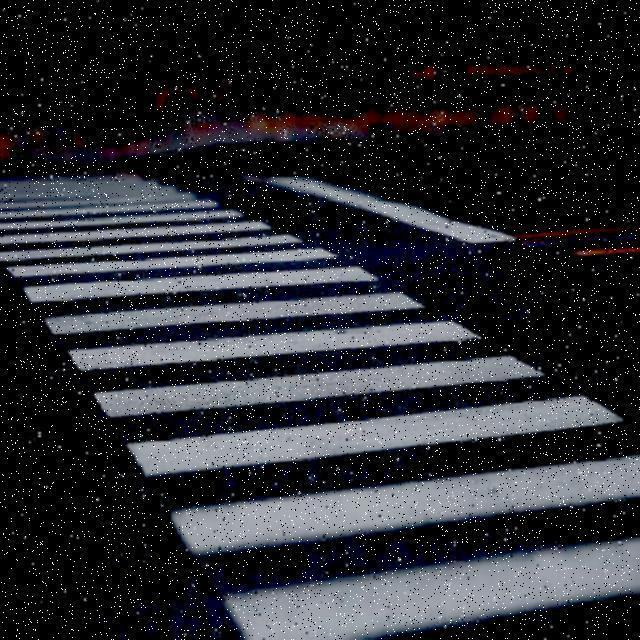crosswalk: (3, 173, 640, 640)
